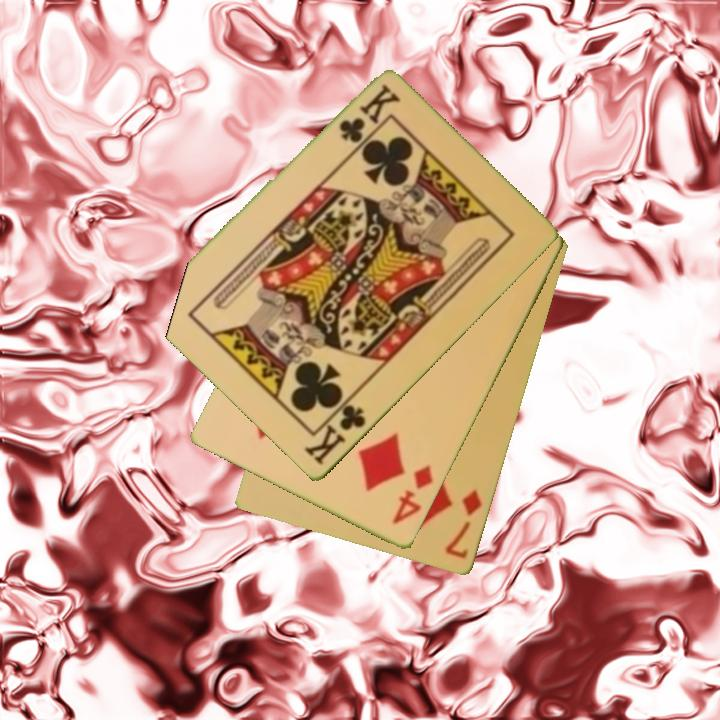4d: (389, 462, 436, 528)
7d: (441, 486, 486, 562)
Kc: (301, 392, 369, 469), (335, 81, 401, 147)
